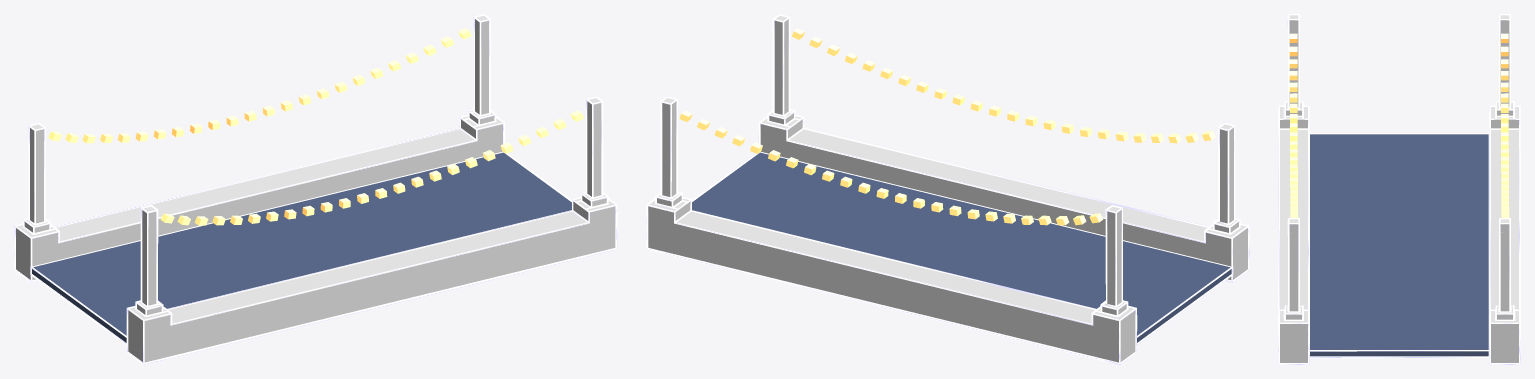
File: pont avec outlines.fbx
3 views of the same model, side by side, from view 1: azimuth 30°, elevation 25°; view 2: azimuth 150°, elevation 25°; view 3: azimuth 270°, elevation 25° (orthographic). The views are drawn at different scales.
Parts seen in each view (by area): view 1: Bridge_Planks, Bridge_Railing_Left, Bridge_Railing_Right, Bridge_Railing_Left_Outlines, Bridge_Railing_Left_Outlines.001, Lanterns_Left, Lanterns_Right, Bridge Outline; view 2: Bridge_Planks, Bridge_Railing_Right, Bridge_Railing_Left, Bridge_Railing_Left_Outlines.001, Bridge_Railing_Left_Outlines, Lanterns_Left, Lanterns_Right, Bridge Outline; view 3: Bridge_Planks, Bridge_Railing_Right, Bridge_Railing_Left, Bridge_Railing_Left_Outlines, Bridge_Railing_Left_Outlines.001, Bridge Outline, Lanterns_Right, Lanterns_Left.
Boxes of the visible parts, box(x1,y1,x2,y2) form: Bridge_Planks: box(32, 152, 571, 342); Bridge_Railing_Left: box(128, 98, 615, 362); Bridge_Railing_Right: box(16, 15, 502, 280); Bridge_Railing_Left_Outlines: box(126, 96, 617, 364); Bridge_Railing_Left_Outlines.001: box(14, 14, 505, 282); Lanterns_Left: box(48, 28, 471, 143); Lanterns_Right: box(160, 110, 583, 225); Bridge Outline: box(30, 151, 571, 345); Bridge_Planks: box(692, 152, 1231, 342); Bridge_Railing_Right: box(648, 98, 1135, 362); Bridge_Railing_Left: box(760, 16, 1247, 279); Bridge_Railing_Left_Outlines.001: box(646, 96, 1137, 364); Bridge_Railing_Left_Outlines: box(758, 14, 1249, 282); Lanterns_Left: box(679, 110, 1103, 225); Lanterns_Right: box(792, 28, 1215, 143); Bridge Outline: box(692, 151, 1233, 345); Bridge_Planks: box(1310, 134, 1488, 356); Bridge_Railing_Right: box(1491, 15, 1518, 362); Bridge_Railing_Left: box(1280, 15, 1307, 362); Bridge_Railing_Left_Outlines: box(1278, 14, 1309, 364); Bridge_Railing_Left_Outlines.001: box(1489, 14, 1520, 364); Bridge Outline: box(1308, 133, 1490, 358); Lanterns_Right: box(1289, 33, 1298, 217); Lanterns_Left: box(1501, 33, 1509, 232).
Bounding box in the file's own units: 3411 × 1010 × 1611.
